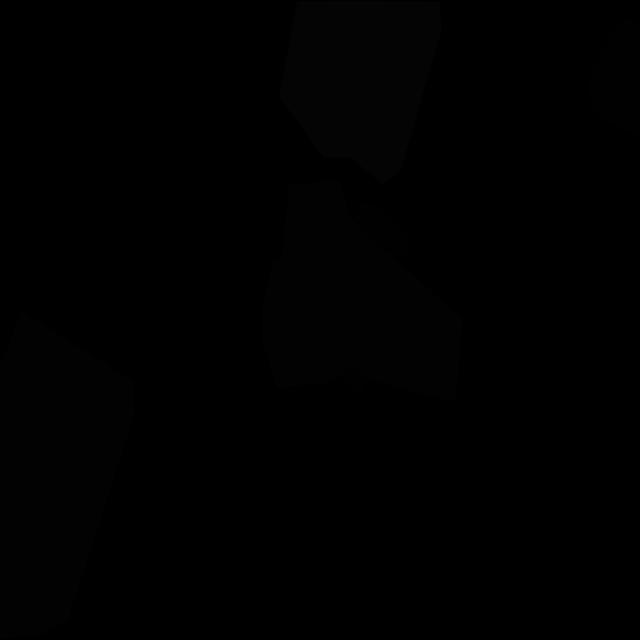cardboard: (262, 180, 463, 402), (0, 311, 134, 639)
rigid_plastic: (586, 17, 640, 139), (353, 202, 412, 263), (341, 368, 365, 396)
soft_plastic: (279, 0, 442, 185)
